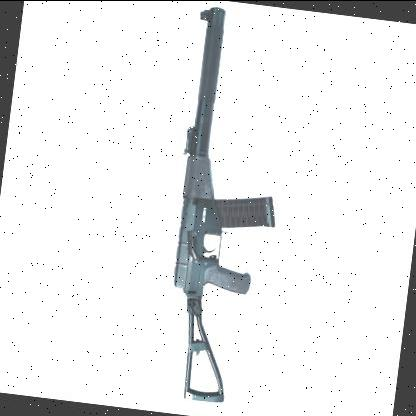rifle: (136, 0, 316, 412)
